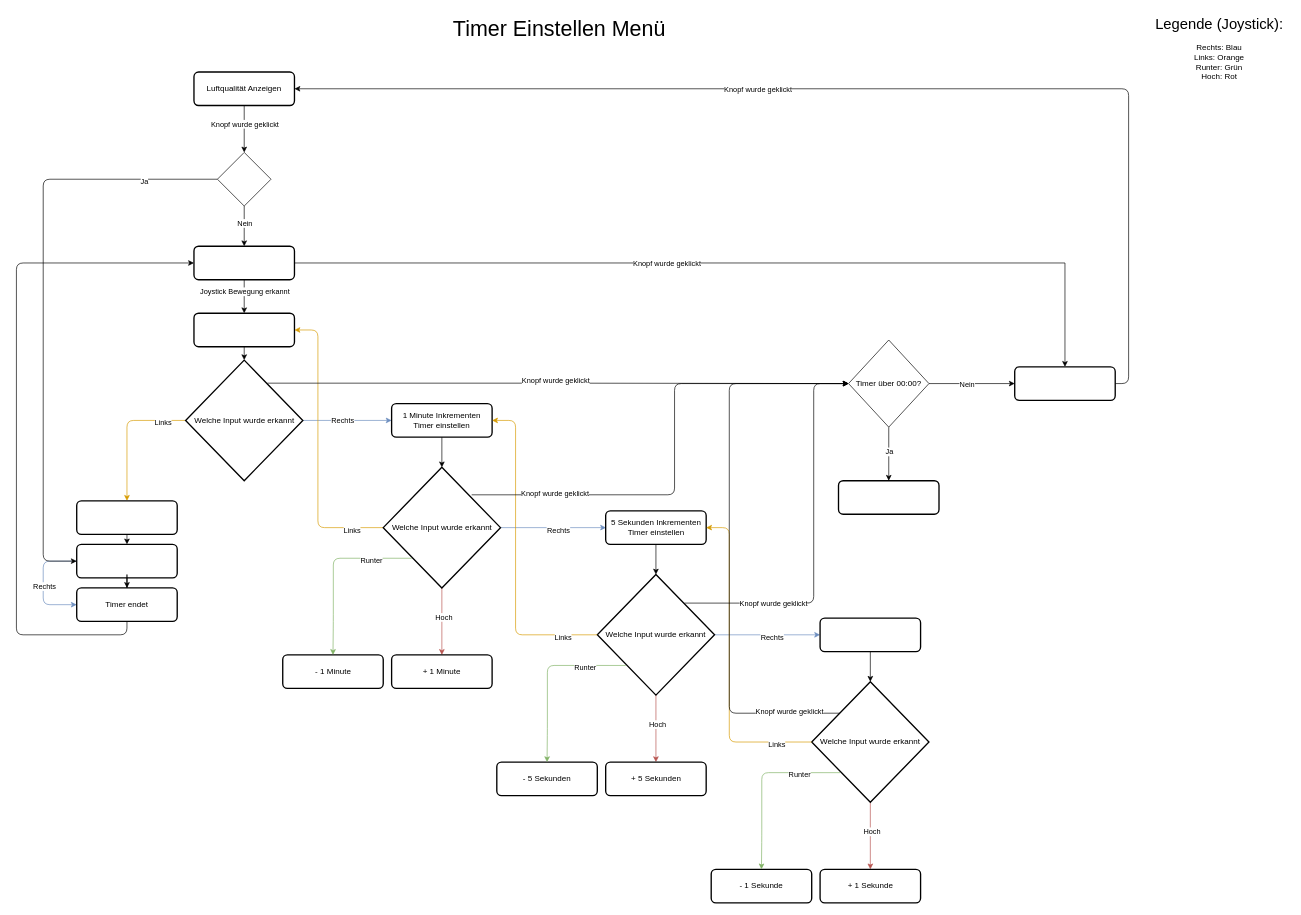
Image size: 1301x915. Some labels were removed from this diagram. The centre of each missing label's shape, as x and y in pixels:
"1 Sekunde Inkrementen Timer einstellen" belongs at pixel 870 634.
"5 Minuten Inkrementen Timer einstellen" belongs at pixel 244 329.
"Datum & Uhrzeit anzeigen" belongs at pixel 1065 383.
"Laufender Timer anzeigen" belongs at pixel 127 560.
"Nichts unternehmen" belongs at pixel 888 497.
"Starte Timer" belongs at pixel 127 517.
"Timer einstellen anzeigen" belongs at pixel 244 262.
"Timer läuft?" belongs at pixel 244 179.
